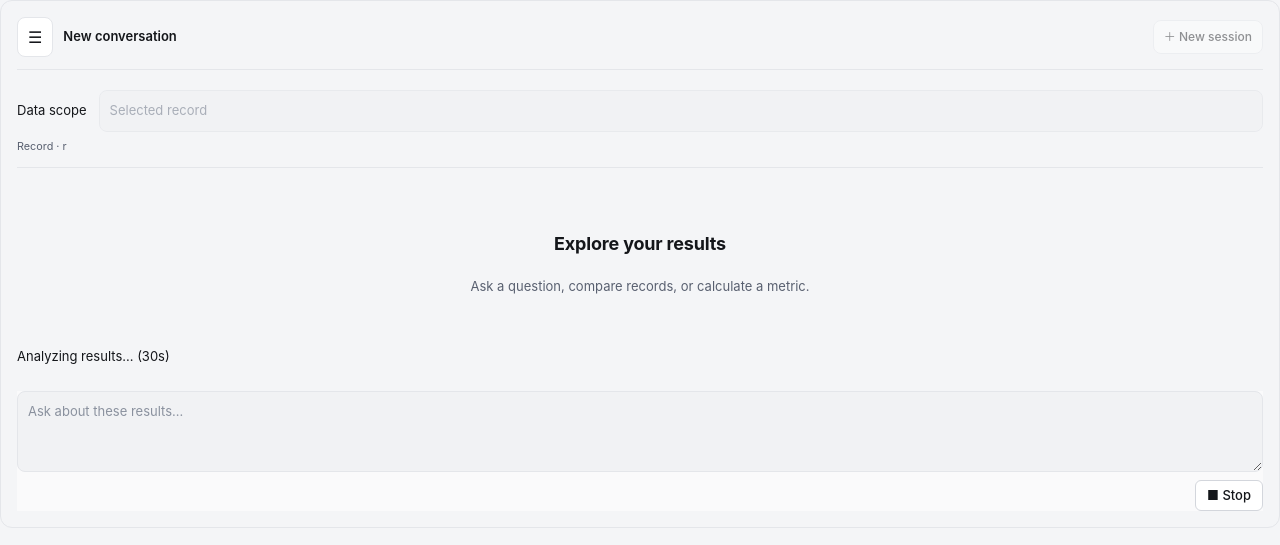
Test case: re-attaches to a running question and Stop cancels it on the server
This screenshot has width=1280, height=545.
expect the text "Analyzing results… (30s)" is shown: met, box top-left (17, 348), bottom-right (170, 364)
Click the button "■ Stop" at (1229, 496), box top-left (1195, 480), bottom-right (1263, 511)
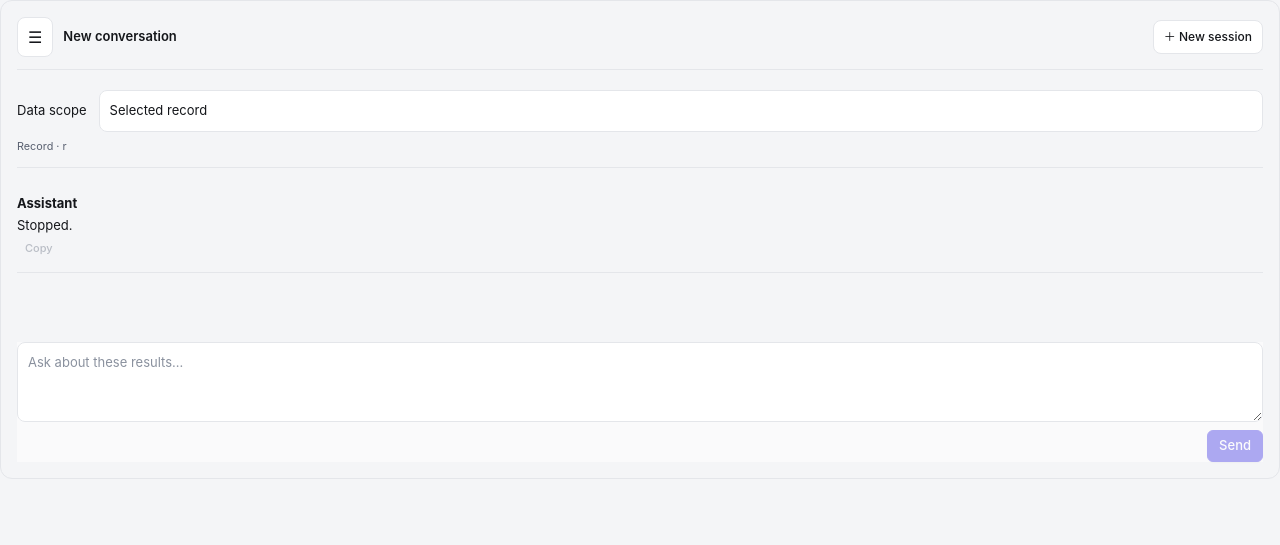
expect the text "Stopped." is shown: met, box top-left (17, 217), bottom-right (72, 233)
